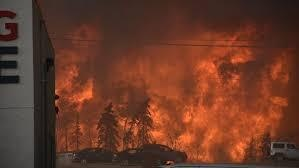fire: (59, 21, 277, 157)
